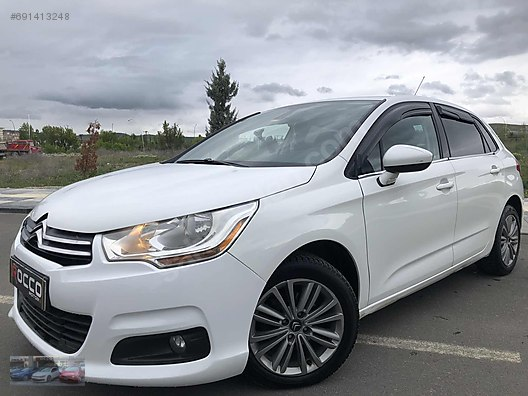citroen: (5, 84, 506, 388)
